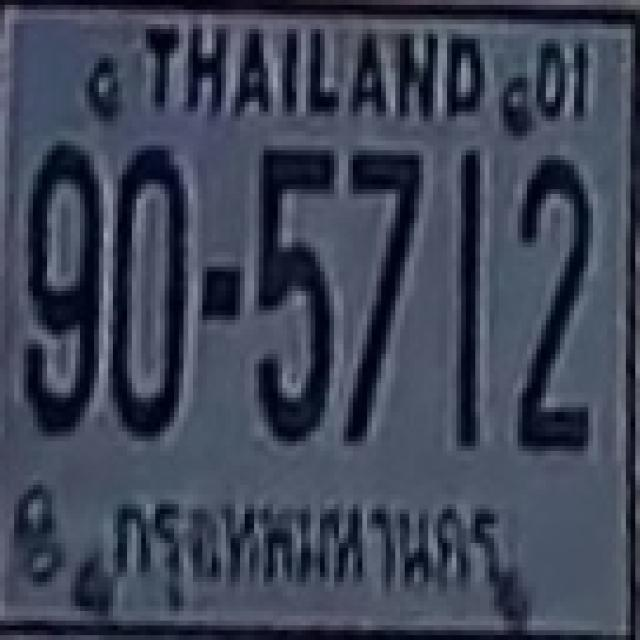0: (33, 141, 103, 320)
7: (348, 146, 419, 300)
BKK: (90, 480, 516, 617)
